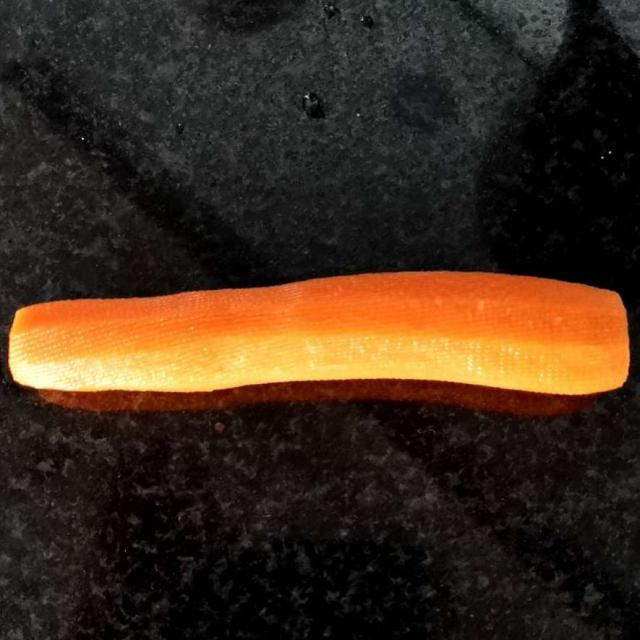carrot-raw: (18, 274, 632, 420)
